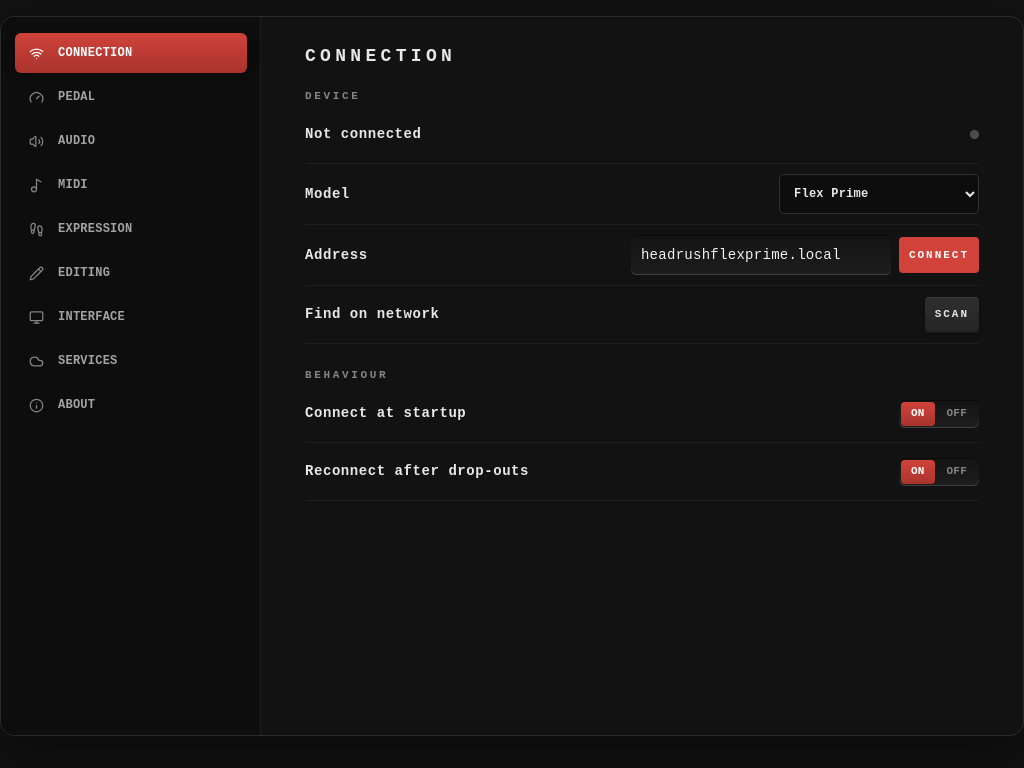
Scenario: SYSTEM · SETTINGS (minimal rows) › remembers the section and keeps MIDI controller input apart from pedal MIDI
Click the button "MIDI": (131, 185) [15,165,247,205]
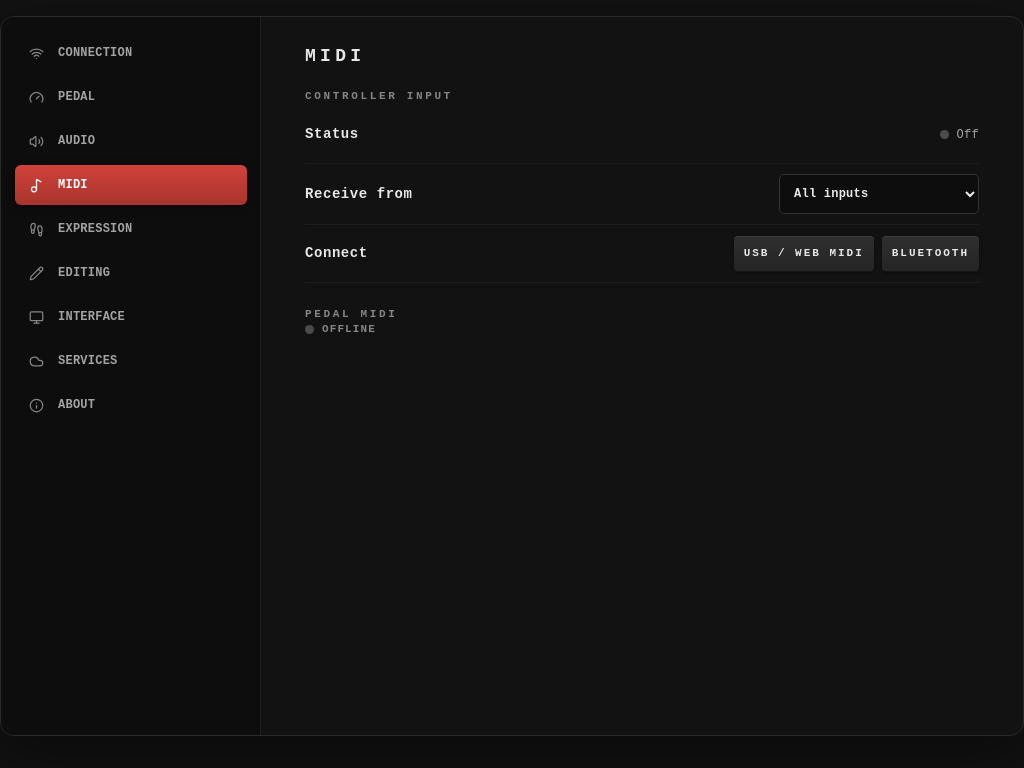
Now the heading "CONTROLLER INPUT" is shown, box [305,90,453,102]
Now the heading "PEDAL MIDI" is shown, box [305,308,397,320]
